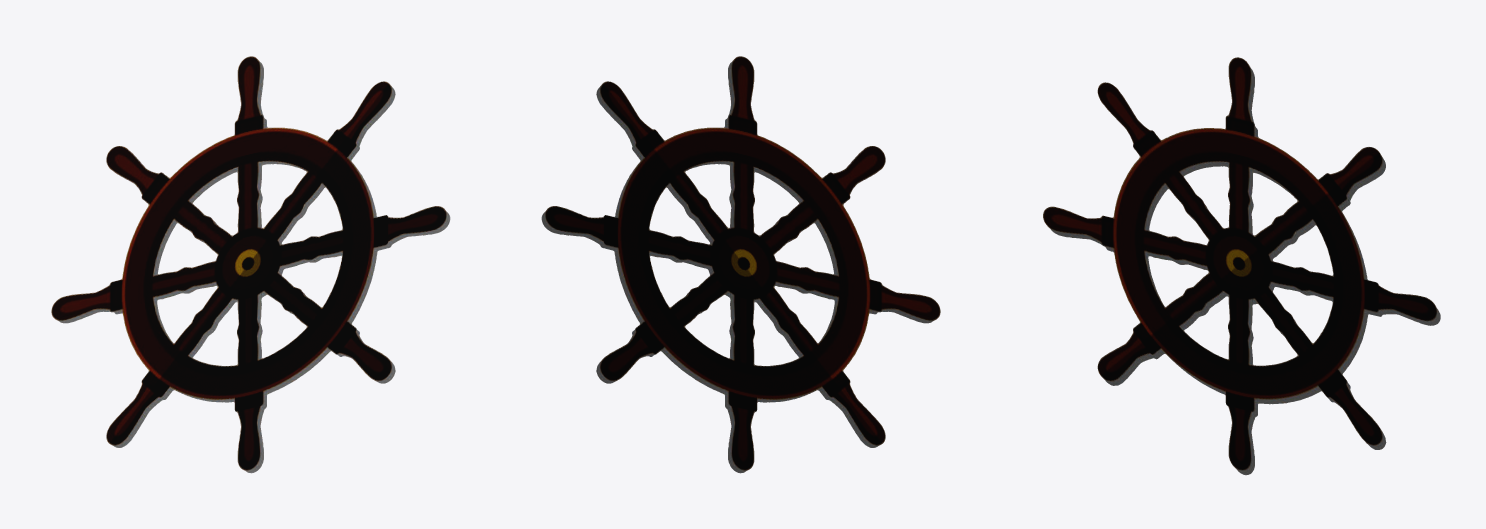
The model's file is Ships Wheel.fbx.
3 views of the same model, side by side, from view 1: azimuth 30°, elevation 25°; view 2: azimuth 150°, elevation 25°; view 3: azimuth 330°, elevation 25° (orthographic).
Parts seen in each view (by area): view 1: Model; view 2: Model; view 3: Model.
Part boxes in pixels (bbox=[...]): Model: bbox=[51, 56, 450, 473]; Model: bbox=[541, 56, 940, 473]; Model: bbox=[1043, 57, 1440, 475].
Bounding box in the file's own units: 95.41 × 95.41 × 0.
